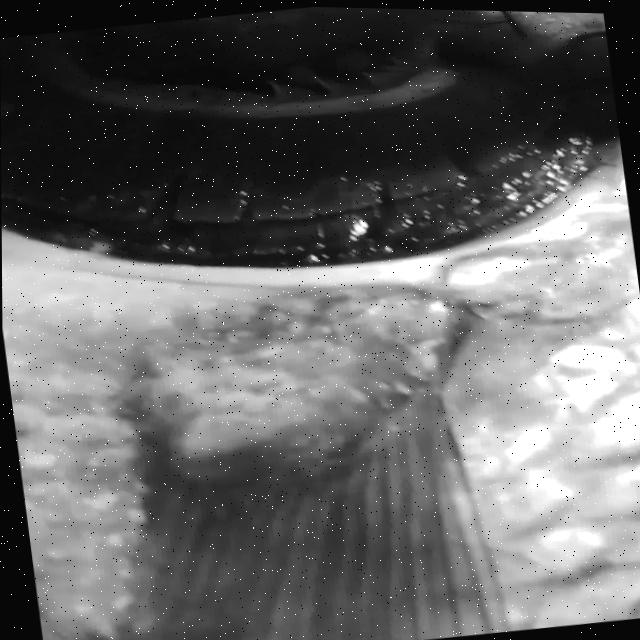Fresh: (0, 0, 633, 320)
